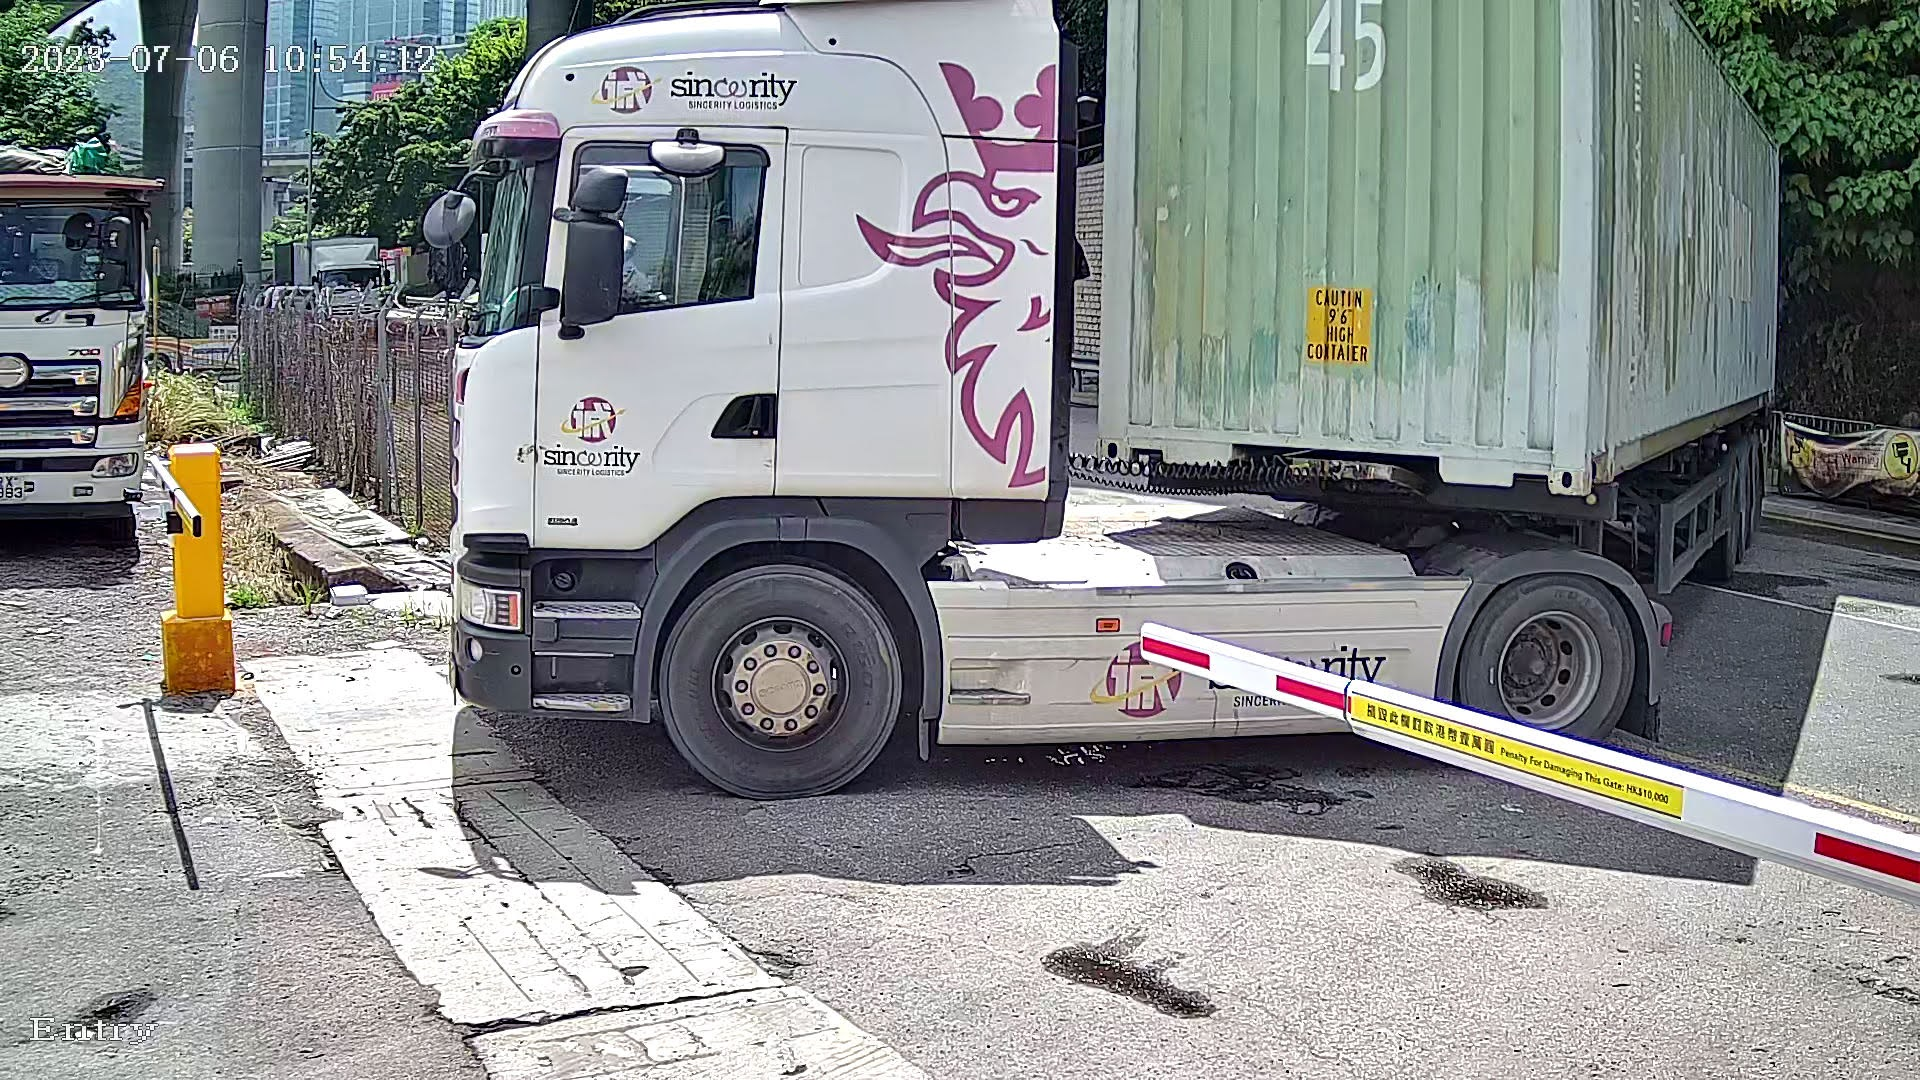truck: (367, 7, 1822, 866)
